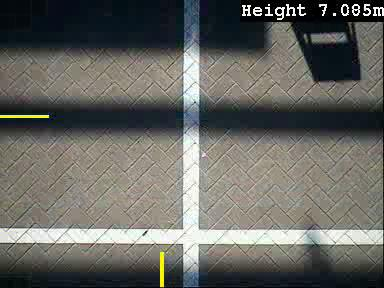groundmarker_2: (203, 137, 254, 208)
